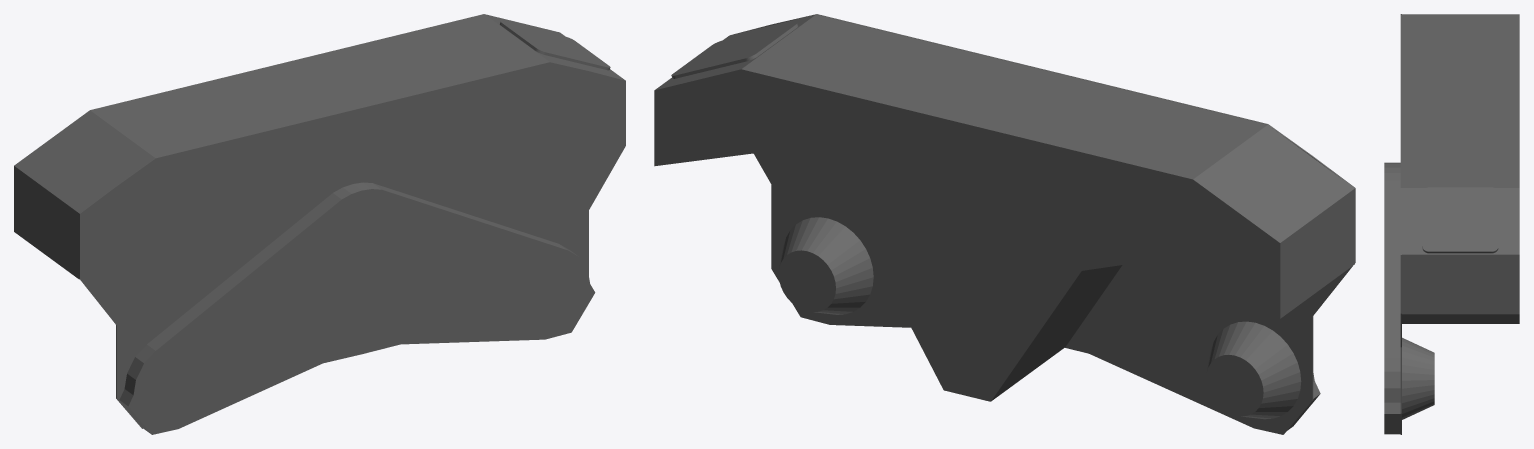
Rendered from WHog_Fender_Right_corr_origen.gltf.
3 renders of one model, left to right at view 1: azimuth 30°, elevation 25°; view 2: azimuth 150°, elevation 25°; view 3: azimuth 270°, elevation 25°, orthographic. The views are drawn at different scales.
Parts seen in each view (by area): view 1: WHog_Fender_Right; view 2: WHog_Fender_Right; view 3: WHog_Fender_Right.
Part boxes in pixels (x1,y1,x2,y2): WHog_Fender_Right: (14,14,625,434); WHog_Fender_Right: (654,14,1355,434); WHog_Fender_Right: (1384,14,1519,434).
Size of the model in its own units: 1.34 by 0.6315 by 0.3178.
Materials: 1 (1 with a texture image).
